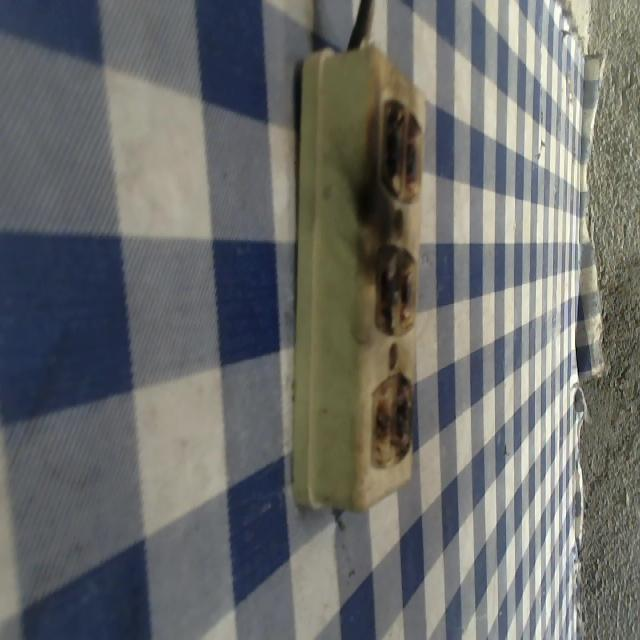-: (378, 92, 424, 203), (371, 237, 418, 332), (367, 371, 413, 468)
